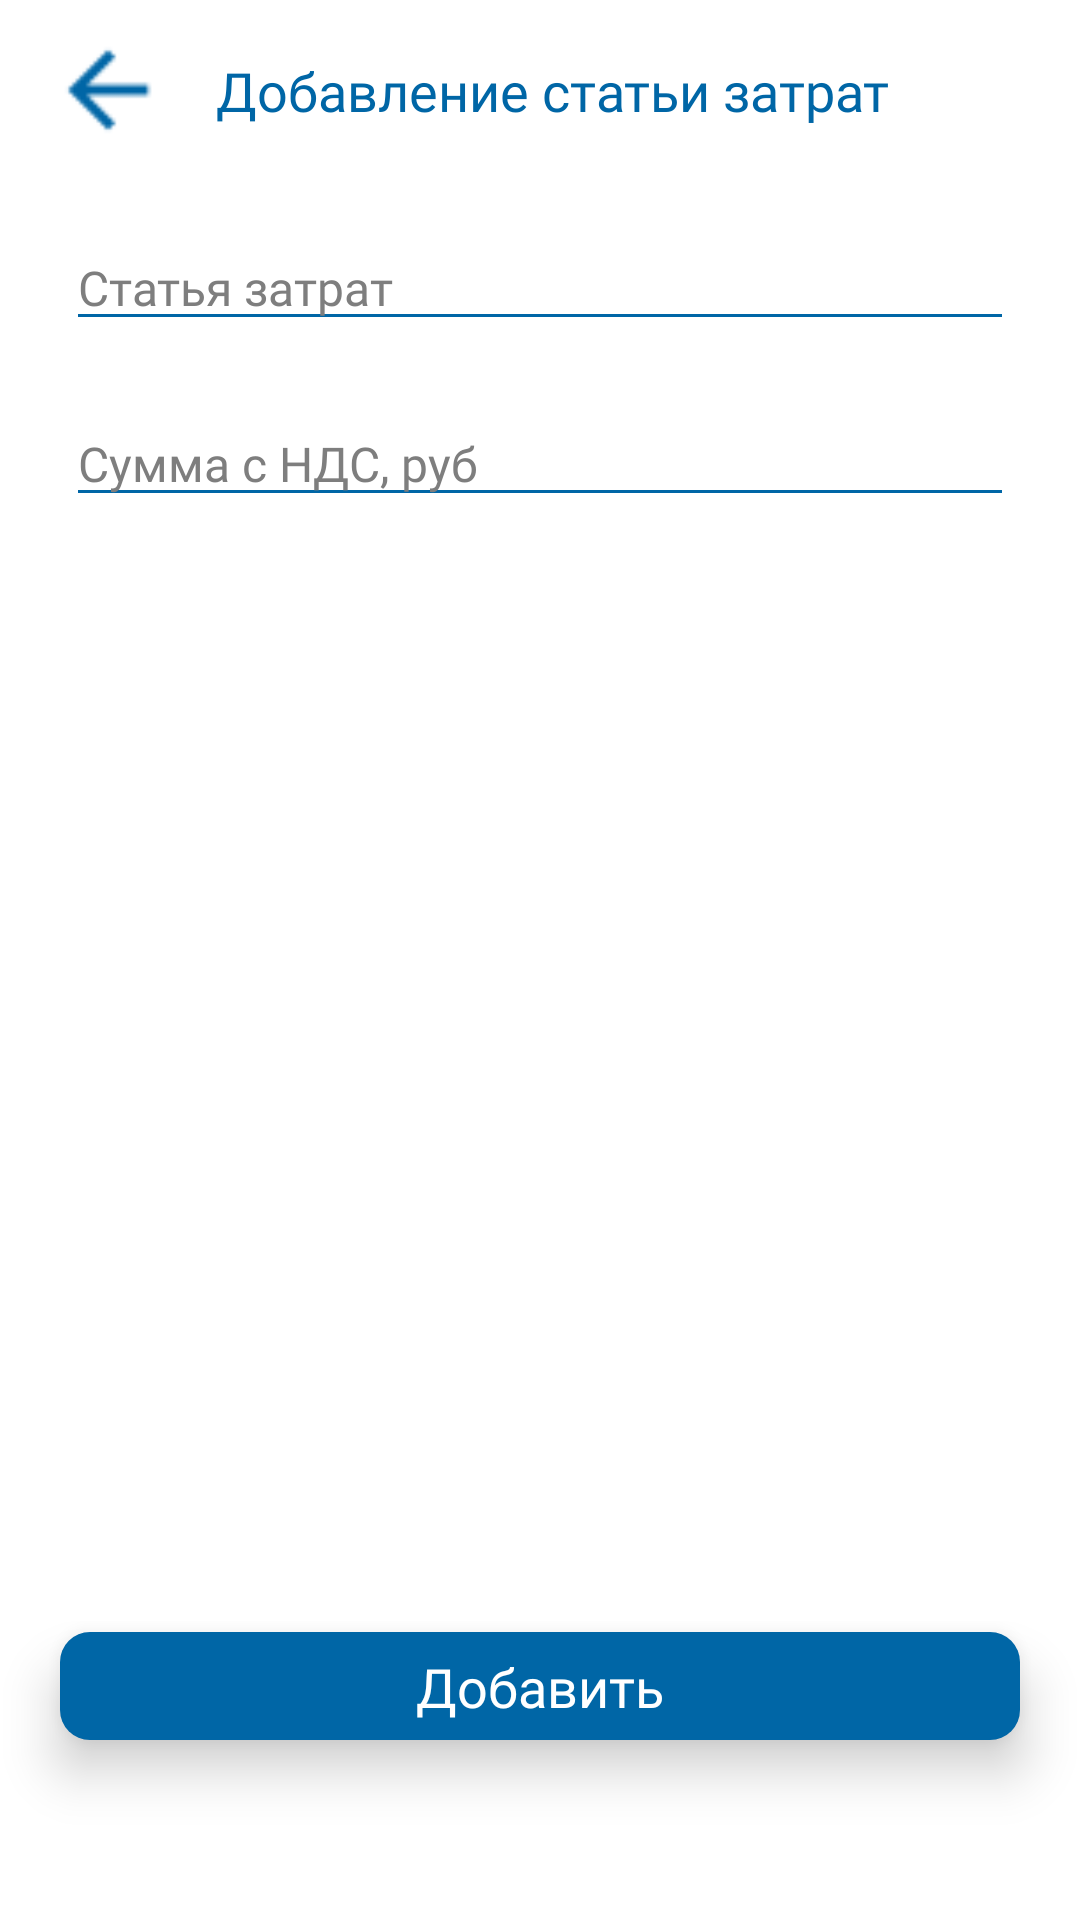

Named icons in this screenshot (1080*1920) and their centers, [x,y]:
arrow back: [109,90]
